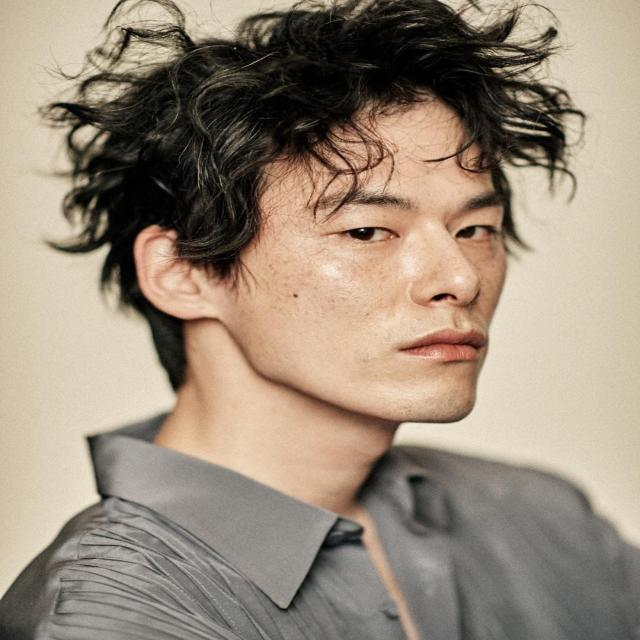front: (292, 187, 512, 403)
